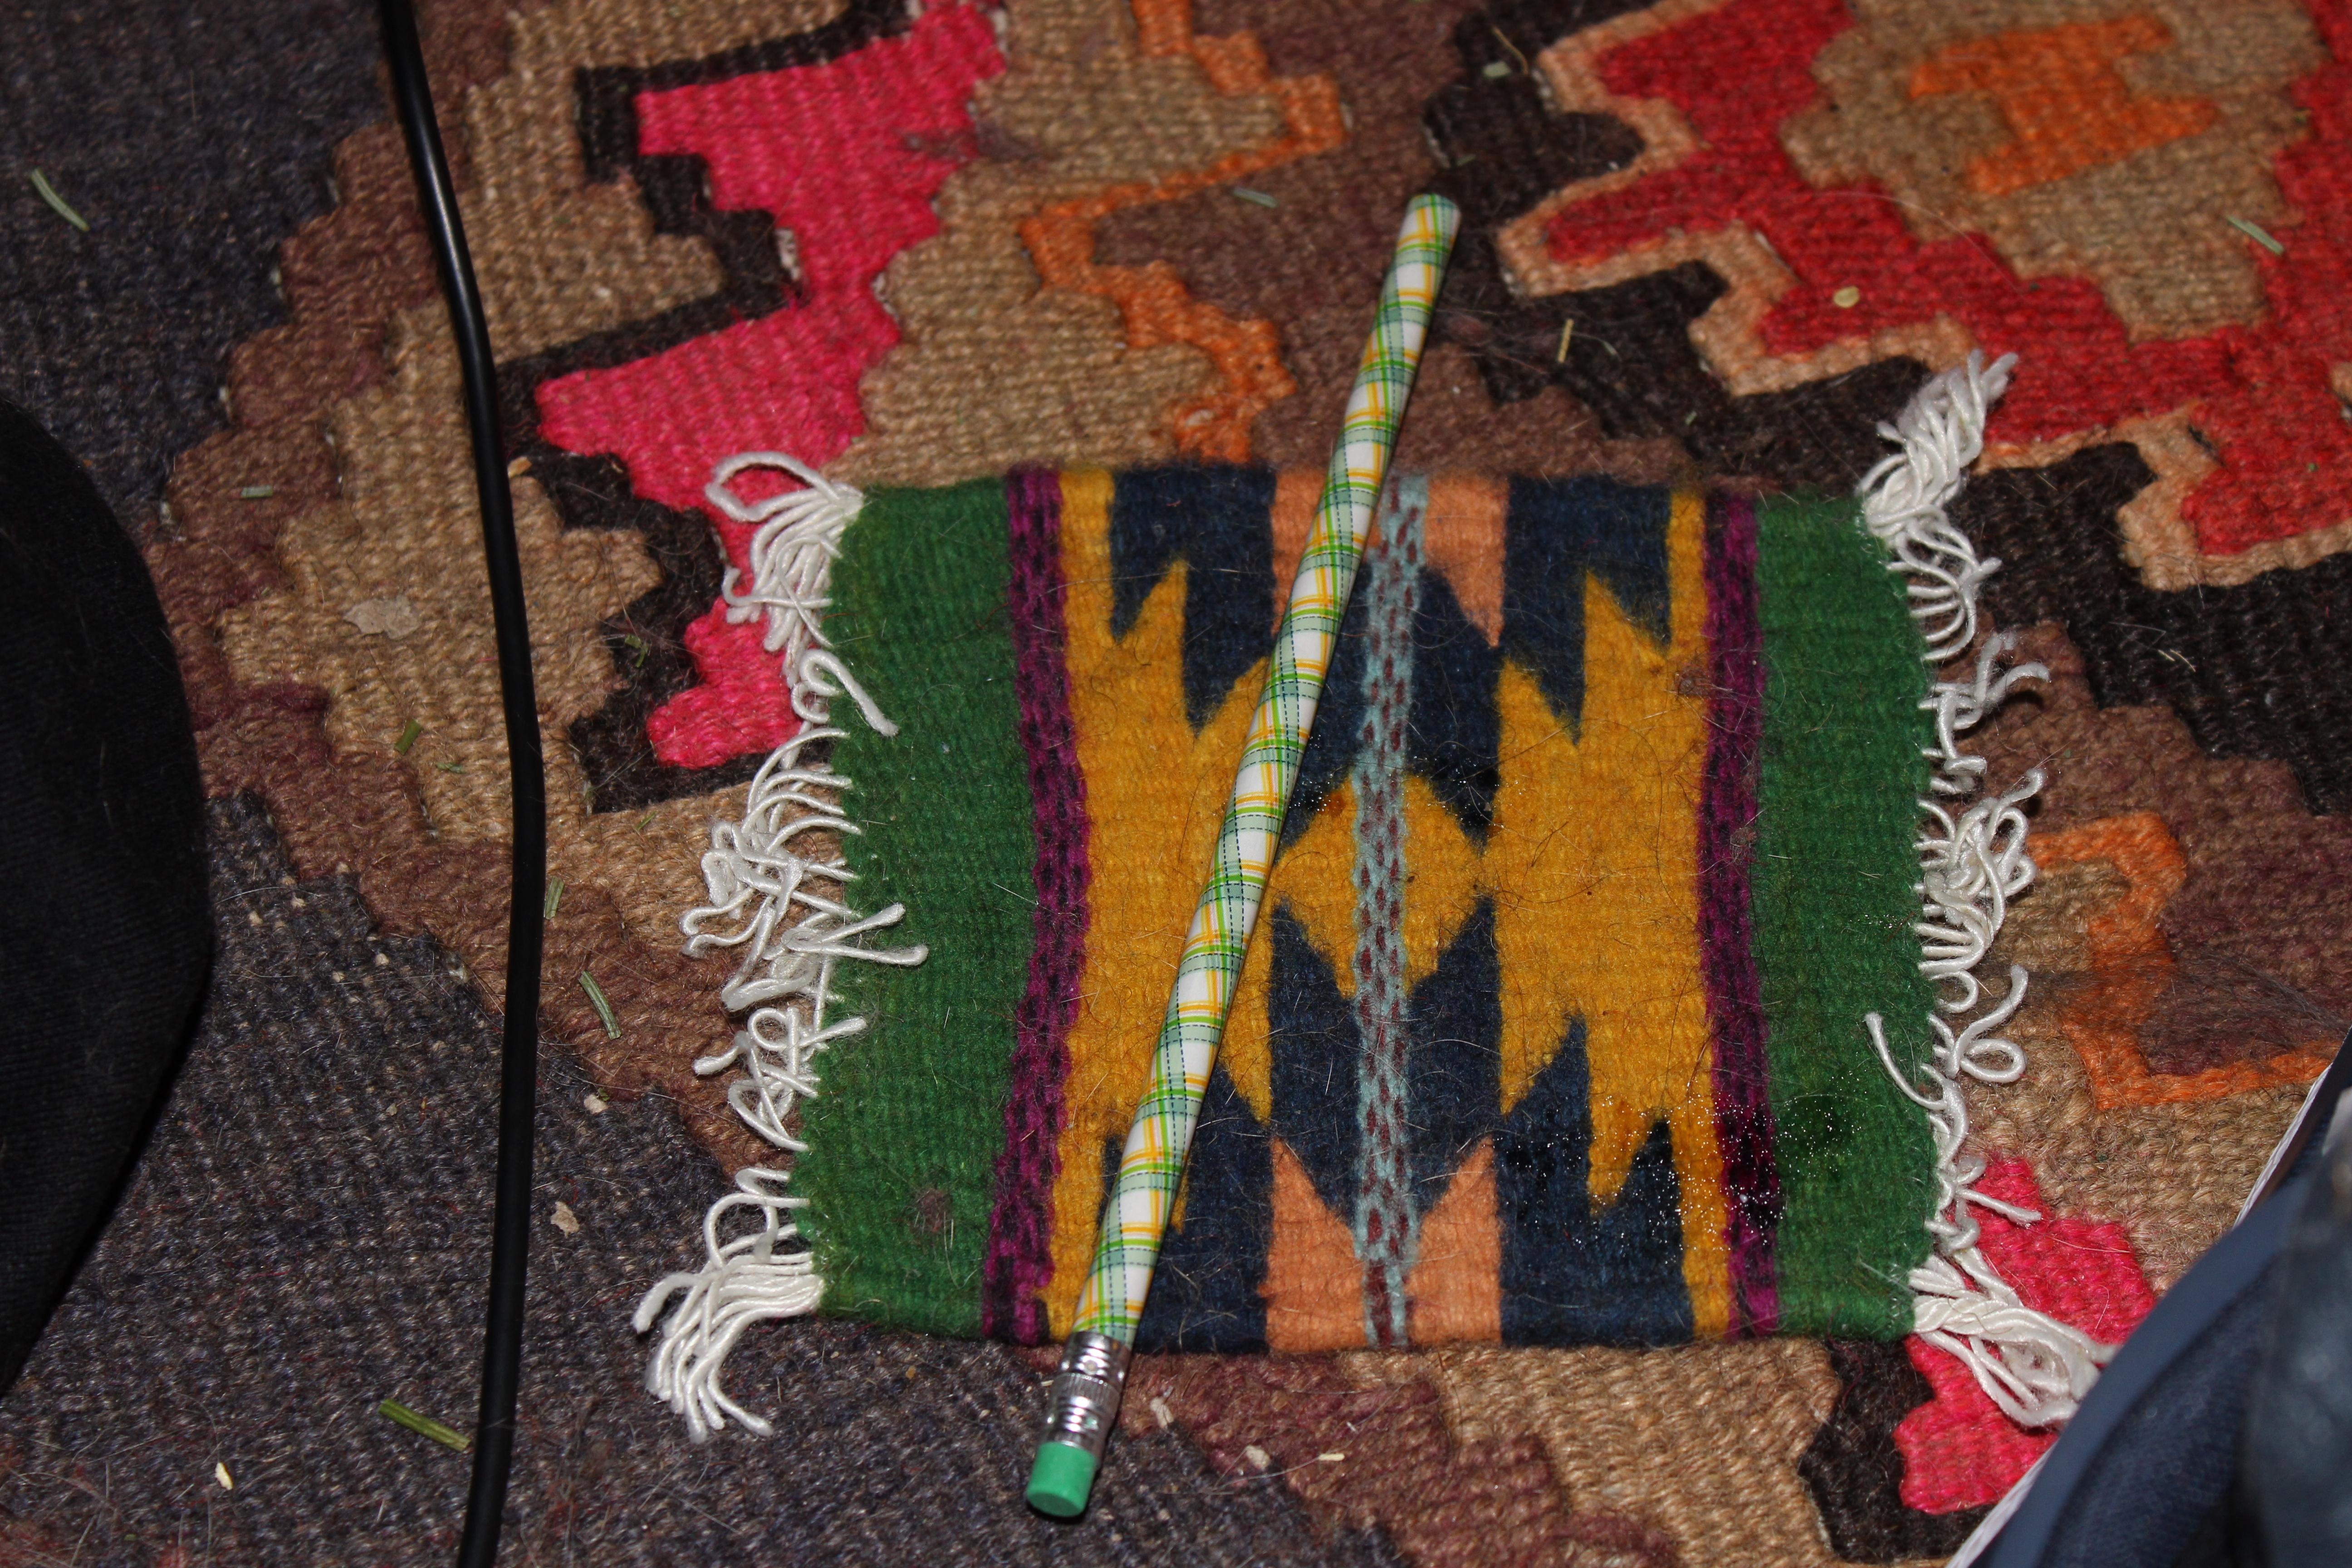plaidPencil: (1008, 149, 1484, 1542)
